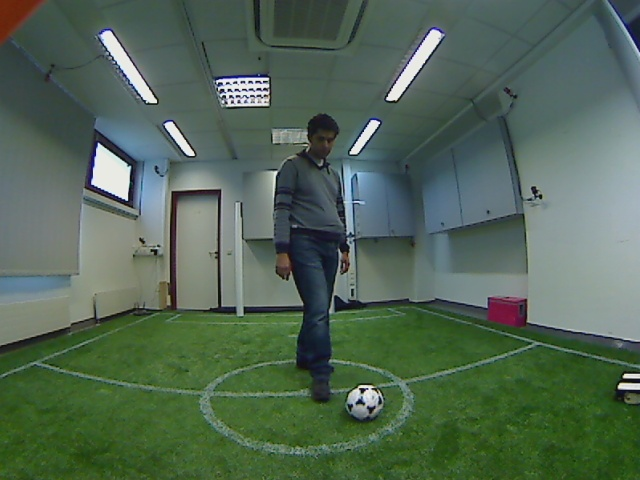ball: (340, 379, 388, 424)
